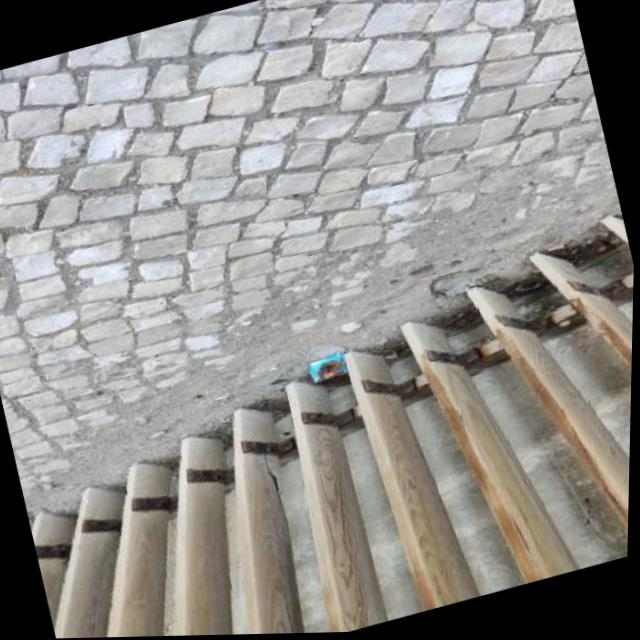cardboard: (305, 350, 351, 384)
